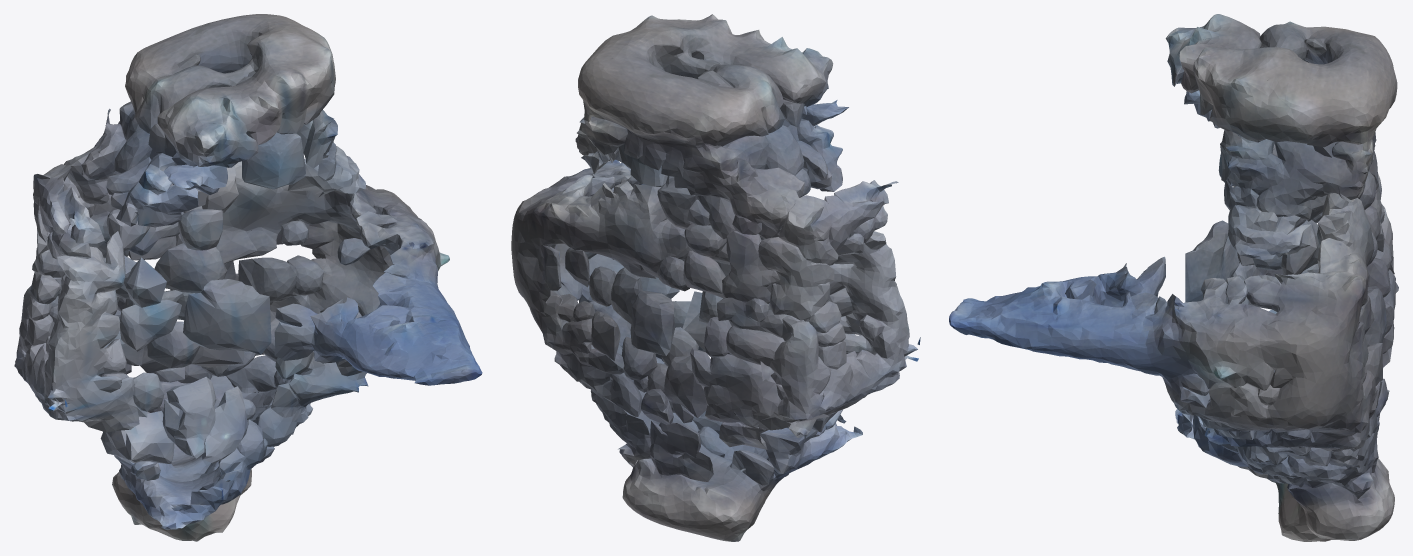
File: IMG_SEG_05.glb
3 views of the same model, side by side, from view 1: azimuth 30°, elevation 25°; view 2: azimuth 150°, elevation 25°; view 3: azimuth 270°, elevation 25° (orthographic). The views are drawn at different scales.
Size of the model in its own units: 1.27 by 1.53 by 1.2.
Materials: 1 (1 with a texture image).
